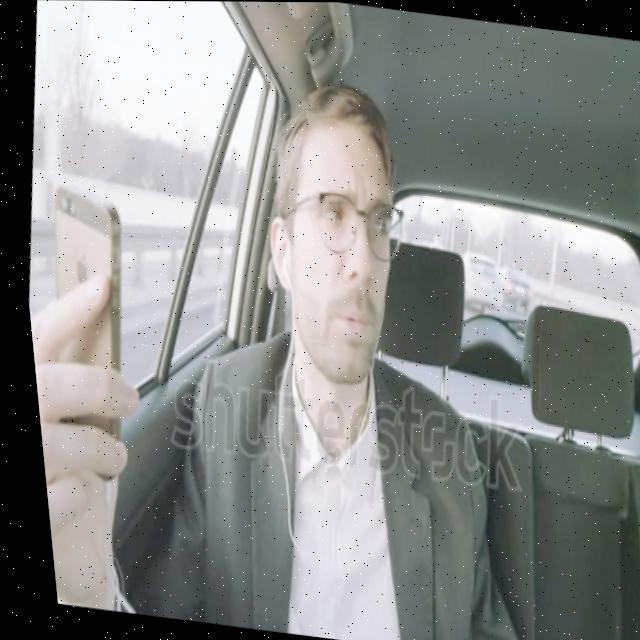PhoneCall: (14, 181, 146, 486)
